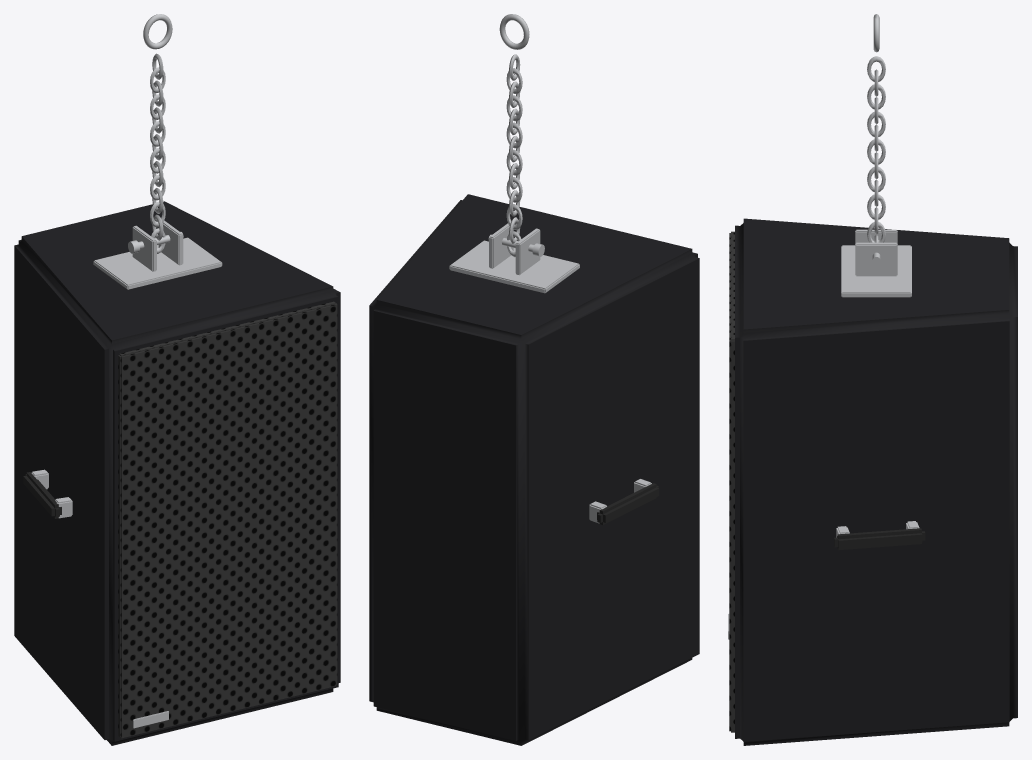
Rendered from pa_speaker_hanging.glb.
3 renders of one model, left to right at view 1: azimuth 30°, elevation 25°; view 2: azimuth 150°, elevation 25°; view 3: azimuth 270°, elevation 25°, orthographic. The views are drawn at different scales.
Parts seen in each view (by area): view 1: pa_speaker_hanging; view 2: pa_speaker_hanging; view 3: pa_speaker_hanging.
Part boxes in pixels (x1,y1,x2,y2): pa_speaker_hanging: (14,14,340,745); pa_speaker_hanging: (369,14,699,745); pa_speaker_hanging: (728,14,1017,745).
Size of the model in its own units: 0.4177 by 1.06 by 0.41.
Materials: 4 (1 with a texture image).
